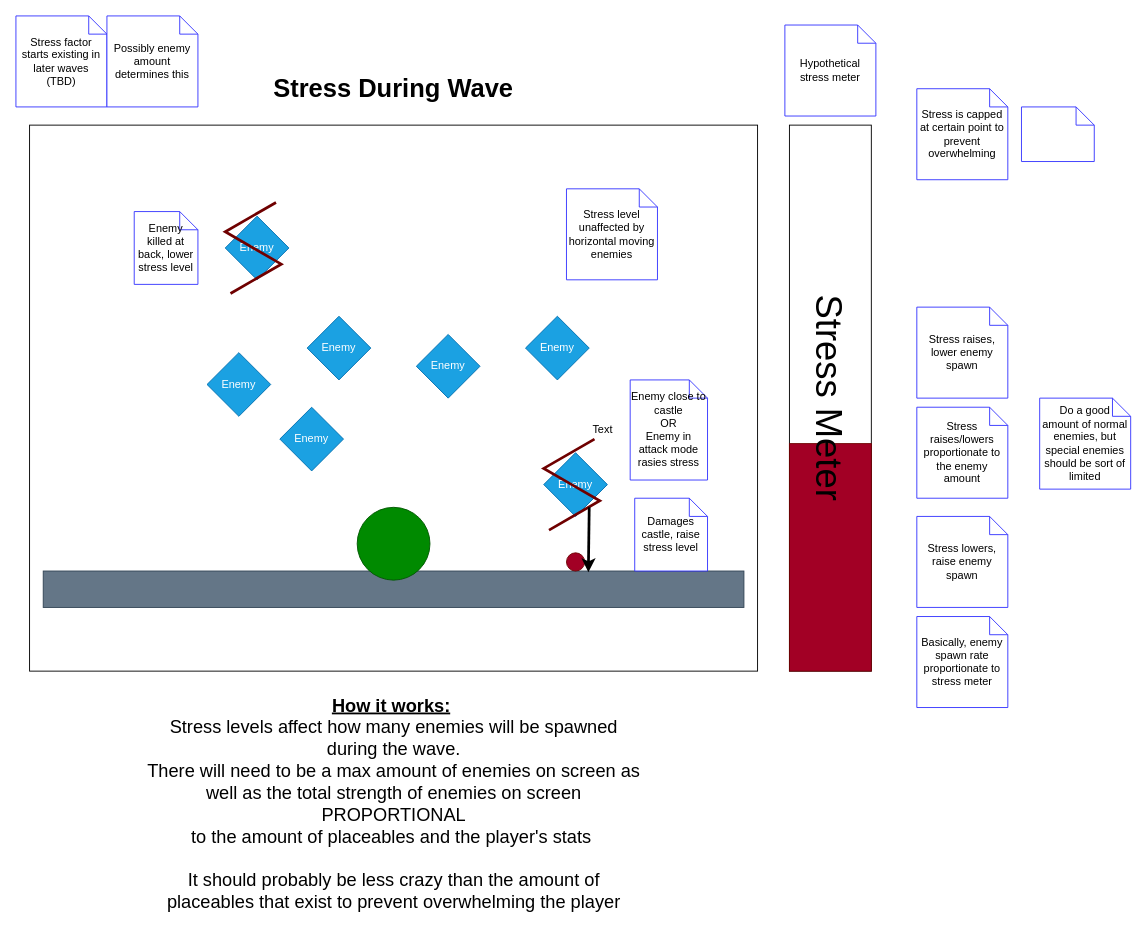
This 1147x928 diagram has some shape labels left out. The shapes that lost their labels are listed below. From the top down, each one's centre as x and y in pixels, then its label:
(1057,134): Unless its a special wave
(393,543): Player
(393,588): Castle
